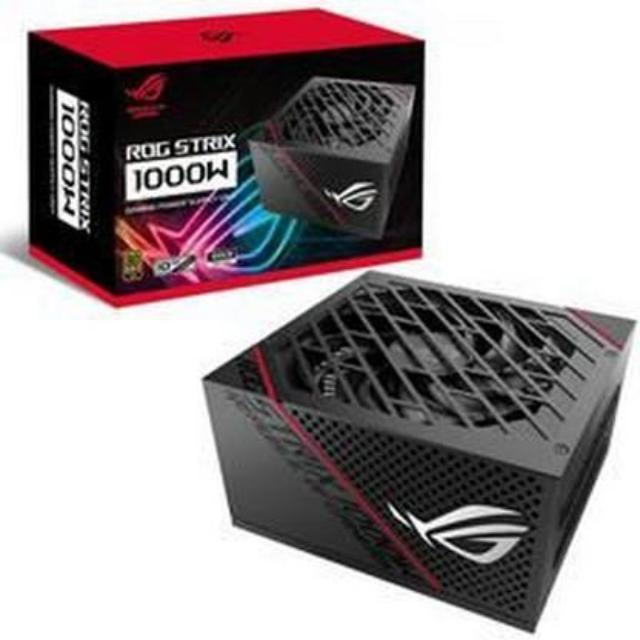PSU: (166, 255, 640, 640)
